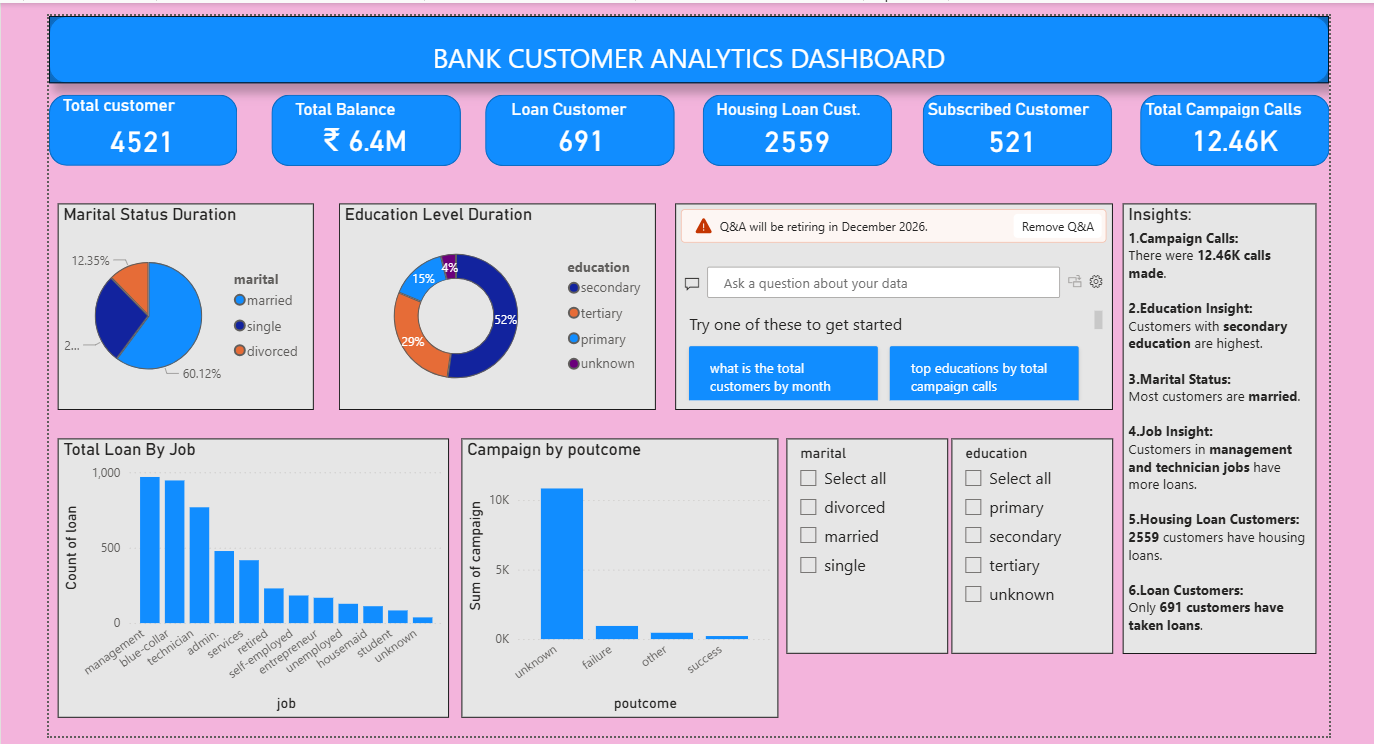

The page's visual inventory and layout, read from the dashboard file:
{"tool":"powerbi","page":{"name":"Page 1","canvas":[1280,720],"ordinal":0},"visuals":[{"type":"shape","box":[0,0,1280.3,67.3],"z":0},{"type":"textbox","box":[0,0,1280.3,67.3],"z":1000},{"type":"shape","box":[0,78.3,188.3,70.9],"z":2000},{"type":"card","title":"Total customer","fields":{"Values":["bank.Total Customers"]},"box":[8.6,78.3,168.8,70.9],"z":3000},{"type":"shape","box":[222.3,78.2,189.4,71.4],"z":4000},{"type":"shape","box":[436.4,78.2,189.4,71.4],"z":5000},{"type":"shape","box":[653.2,78.2,189.4,71.4],"z":6000},{"type":"shape","box":[874.1,78.2,189.4,71.4],"z":7000},{"type":"shape","box":[1090.9,78.2,189.4,71.4],"z":8000},{"type":"card","title":"Total Balance","fields":{"Values":["bank.Total Balance"]},"box":[241.5,82.3,149.6,63.1],"z":9000},{"type":"card","title":"Loan Customer","fields":{"Values":["bank.Loan Customers"]},"box":[456.9,82.3,149.6,63.1],"z":10000},{"type":"card","title":"Housing Loan Cust.","fields":{"Values":["bank.Housing Loan Customers"]},"box":[662.8,81.9,171.2,63.6],"z":11000},{"type":"card","title":"Subscribed Customer","fields":{"Values":["bank.Subscribed Customers"]},"box":[874.3,81.9,178.5,63.6],"z":12000},{"type":"card","title":"Total Campaign Calls","fields":{"Values":["bank.Total Campaign Calls"]},"box":[1090.9,82.3,189.4,63.1],"z":13000},{"type":"pieChart","title":"Marital Status Duration","fields":{"Category":["bank.marital"],"Y":["Sum(bank.duration)"]},"box":[8.8,187.5,256.2,206.2],"z":14000},{"type":"donutChart","title":"Education Level Duration","fields":{"Category":["bank.education"],"Y":["Sum(bank.duration)"]},"box":[289.8,187.1,316.7,206.7],"z":15000},{"type":"lineStackedColumnComboChart","title":"Total Loan By Job","fields":{"Y":["CountNonNull(bank.loan)"],"Category":["bank.job"]},"box":[8.6,423.1,391.3,278.8],"z":16000},{"type":"qnaVisual","box":[626.1,187.1,437.8,206.7],"z":17000},{"type":"lineStackedColumnComboChart","title":"Campaign by poutcome","fields":{"Y":["Sum(bank.campaign)"],"Category":["bank.poutcome"]},"box":[412.1,423.1,316.7,278.8],"z":17001},{"type":"slicer","fields":{"Values":["bank.marital"]},"box":[737.5,422.5,161.2,215],"z":17002},{"type":"slicer","fields":{"Values":["bank.education"]},"box":[902.5,422.5,161.2,215],"z":17003},{"type":"textbox","title":"Insights:","box":[1073.8,187.5,193.8,450],"z":17004}]}

Visuals, with their boxes in screenshot pixels (x1, y1, x2, y2):
shape: region(36, 11, 1341, 79)
textbox: region(36, 11, 1341, 79)
shape: region(36, 91, 228, 163)
"Total customer" card: region(45, 91, 217, 163)
shape: region(262, 90, 455, 163)
shape: region(481, 90, 674, 163)
shape: region(702, 90, 895, 163)
shape: region(927, 90, 1120, 163)
shape: region(1148, 90, 1341, 163)
"Total Balance" card: region(282, 95, 434, 159)
"Loan Customer" card: region(502, 95, 654, 159)
"Housing Loan Cust." card: region(711, 94, 886, 159)
"Subscribed Customer" card: region(927, 94, 1109, 159)
"Total Campaign Calls" card: region(1148, 95, 1341, 159)
"Marital Status Duration" pieChart: region(45, 202, 306, 412)
"Education Level Duration" donutChart: region(331, 201, 654, 412)
"Total Loan By Job" lineStackedColumnComboChart: region(45, 442, 443, 726)
qnaVisual: region(674, 201, 1120, 412)
"Campaign by poutcome" lineStackedColumnComboChart: region(456, 442, 779, 726)
slicer - bank.marital: region(788, 441, 952, 661)
slicer - bank.education: region(956, 441, 1120, 661)
"Insights:" textbox: region(1130, 202, 1328, 661)
